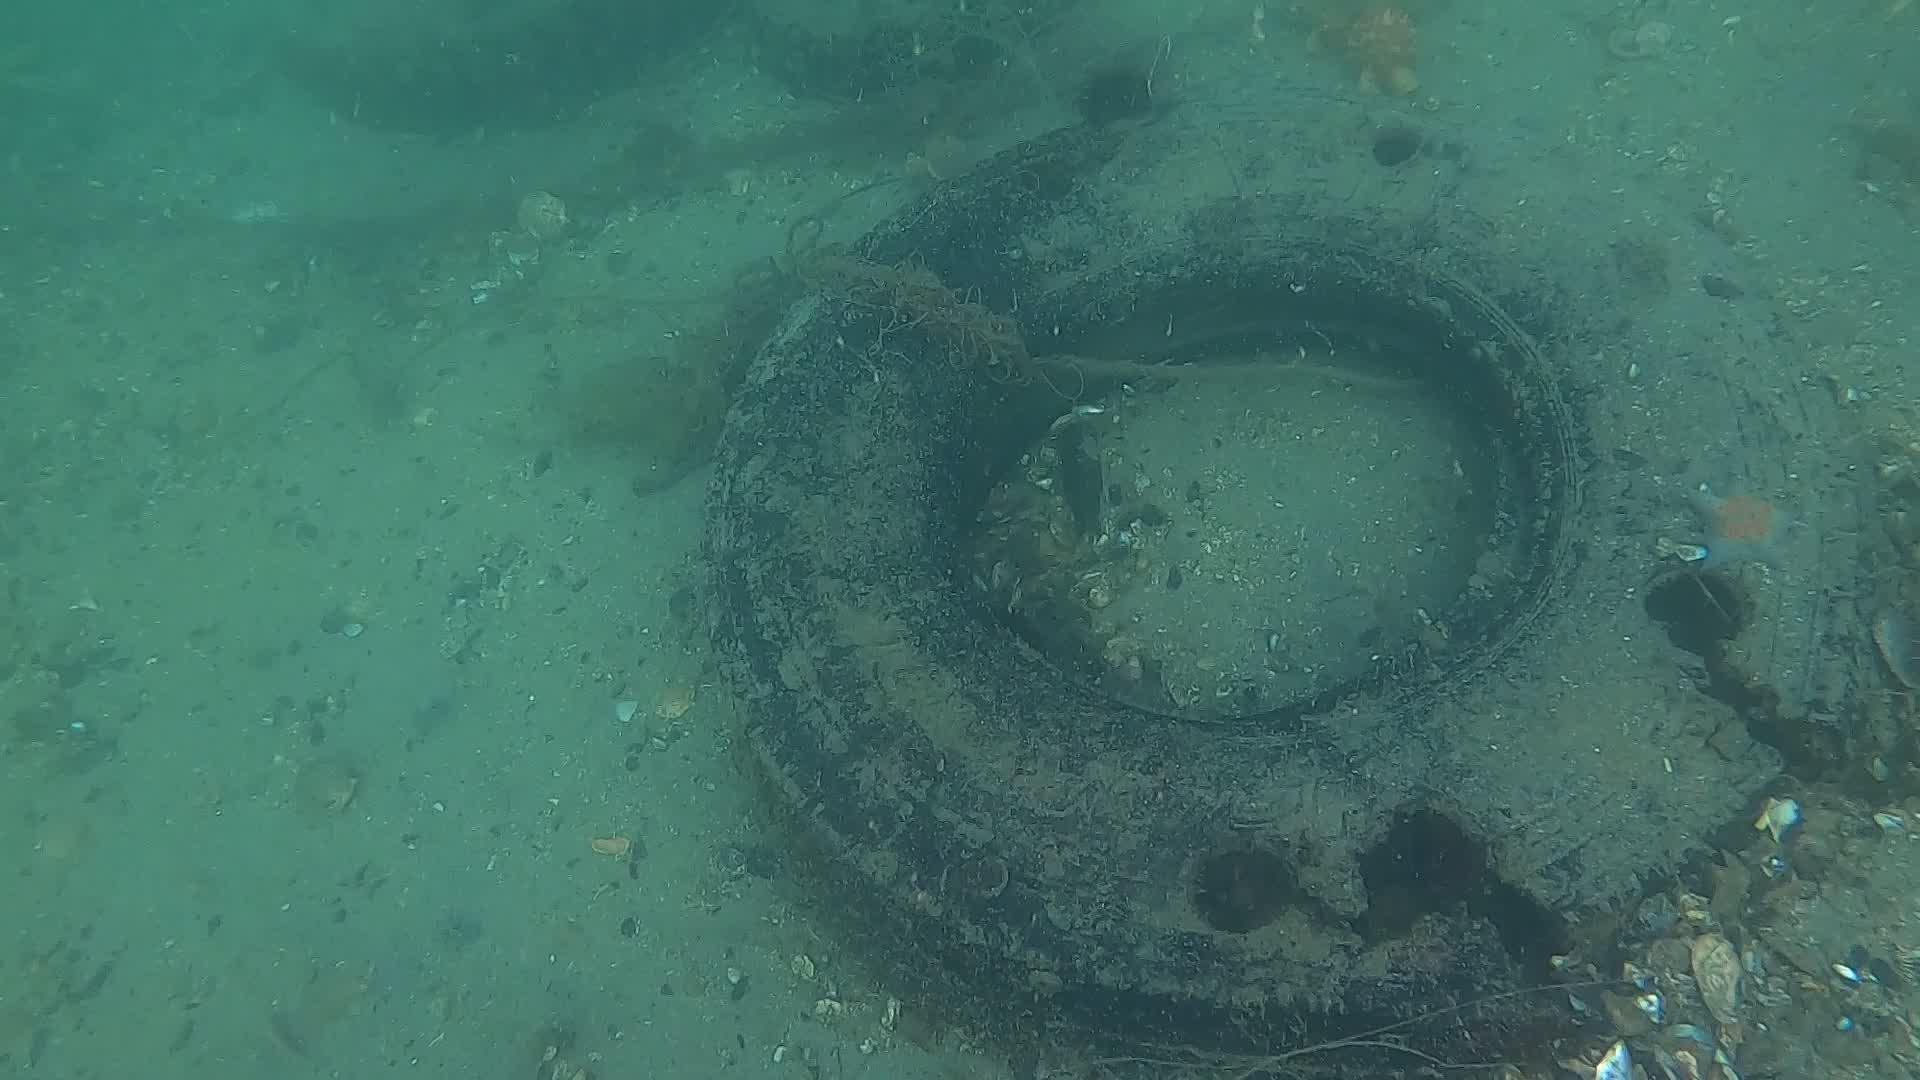tire: (702, 91, 1873, 1073)
